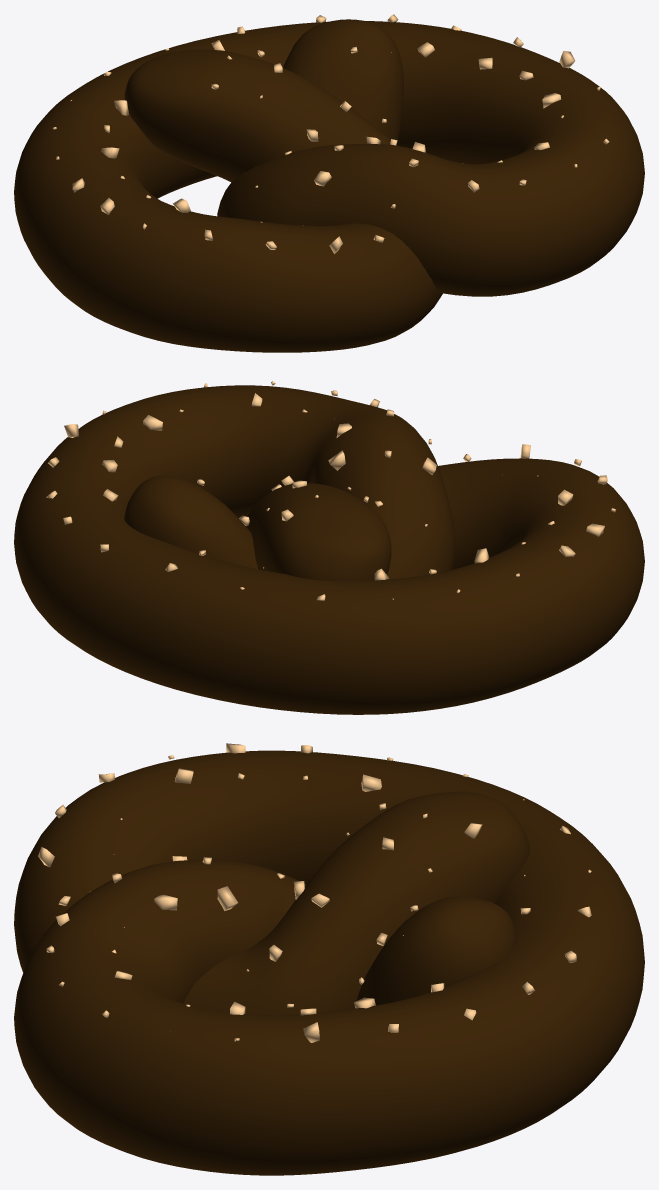
Rendered from Pretzel.fbx.
The picture shows the model from 3 angles, top to bottom: view 1: azimuth 30°, elevation 25°; view 2: azimuth 150°, elevation 25°; view 3: azimuth 270°, elevation 25°; orthographic projection. The views are drawn at different scales.
Parts seen in each view (by area): view 1: Pretzel_3, salt; view 2: Pretzel_3, salt; view 3: Pretzel_3, salt.
Part boxes in pixels (x1,y1,x2,y2): Pretzel_3: (14, 19, 644, 352); salt: (53, 14, 609, 253); Pretzel_3: (14, 385, 644, 714); salt: (46, 381, 616, 600); Pretzel_3: (14, 750, 644, 1175); salt: (38, 743, 591, 1042).
Size of the model in its own units: 1.87 by 0.6148 by 1.53.
